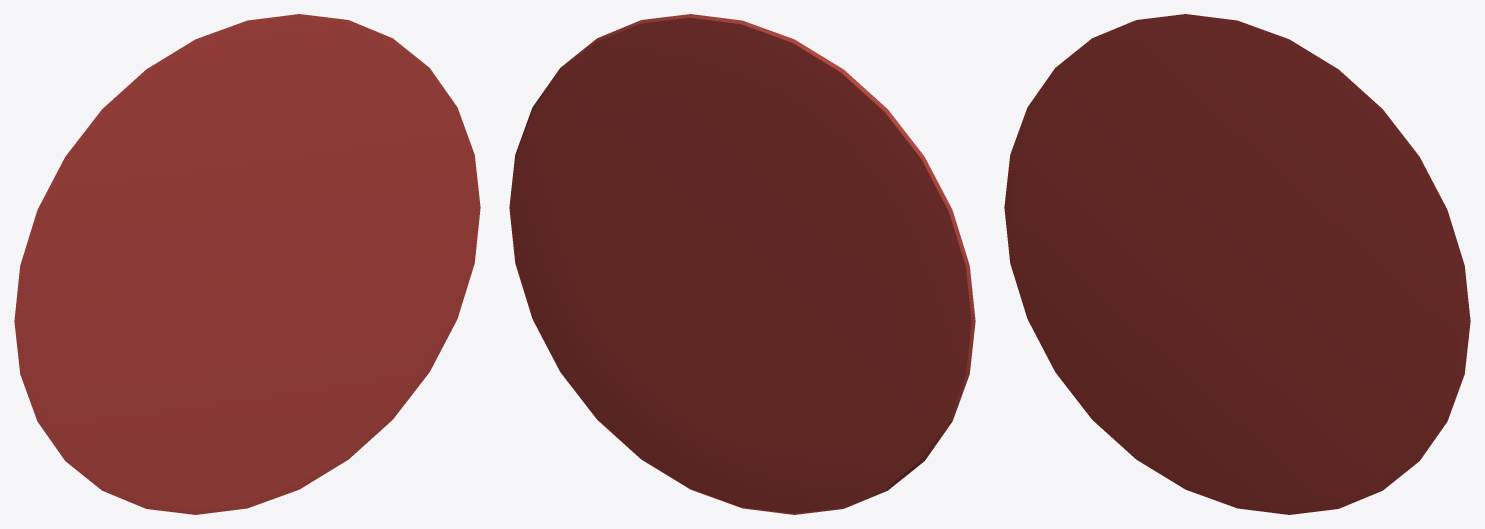
The model's file is round.glb.
3 views of the same model, side by side, from view 1: azimuth 30°, elevation 25°; view 2: azimuth 150°, elevation 25°; view 3: azimuth 330°, elevation 25° (orthographic).
Parts seen in each view (by area): view 1: lod0; view 2: lod0; view 3: lod0.
Boxes of the visible parts, <box> form: lod0: <box>14,14,480,514</box>; lod0: <box>509,14,975,514</box>; lod0: <box>1004,14,1470,514</box>.
Size of what is drawn, in the model's own units: 2 by 2 by 0.024.
